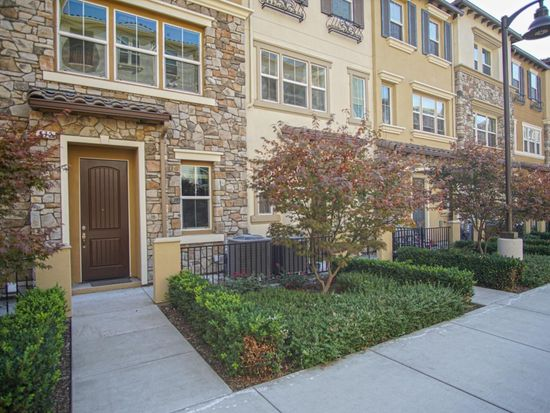plants: (265, 132, 399, 296), (445, 154, 502, 255)
